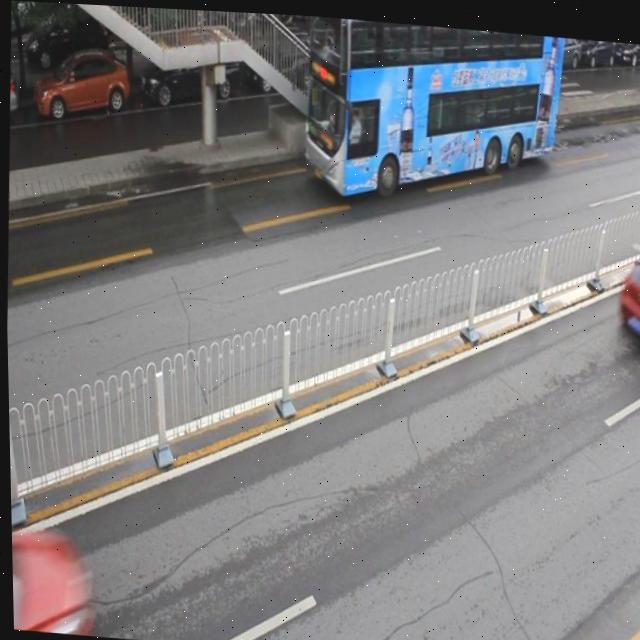car: (30, 44, 130, 126), (136, 38, 240, 107), (323, 19, 410, 91), (244, 24, 320, 93), (377, 42, 440, 115), (612, 236, 640, 349), (8, 66, 19, 126)
van: (297, 12, 568, 210)
